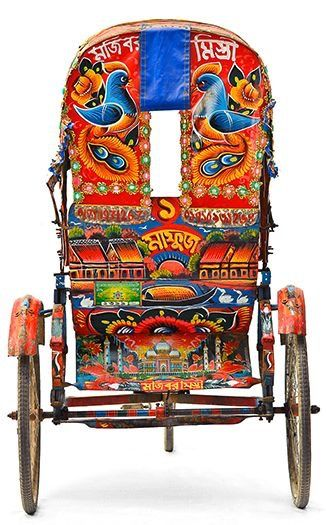Rickshaw: (12, 25, 316, 511)
